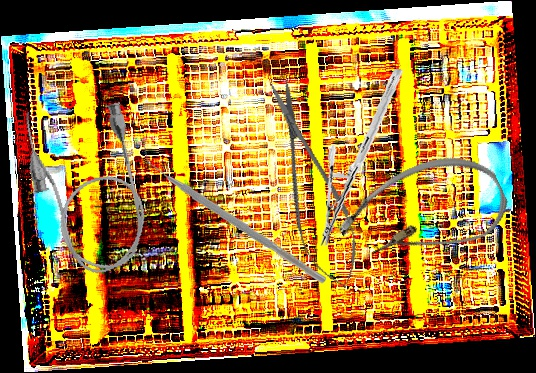Cannula: (328, 136, 518, 292), (15, 89, 160, 285)
Chopper: (138, 141, 331, 285)
Micro Scissor: (251, 73, 373, 297)
Needle Holder: (301, 68, 421, 247)
